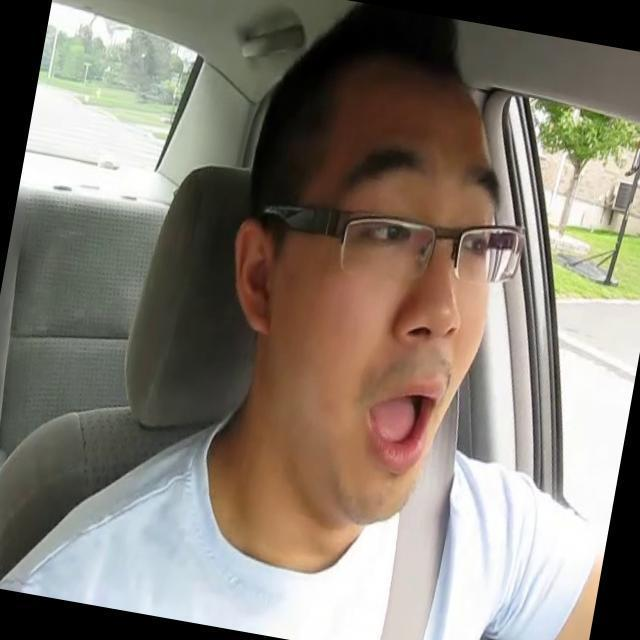open-mouth: (367, 382, 433, 461)
